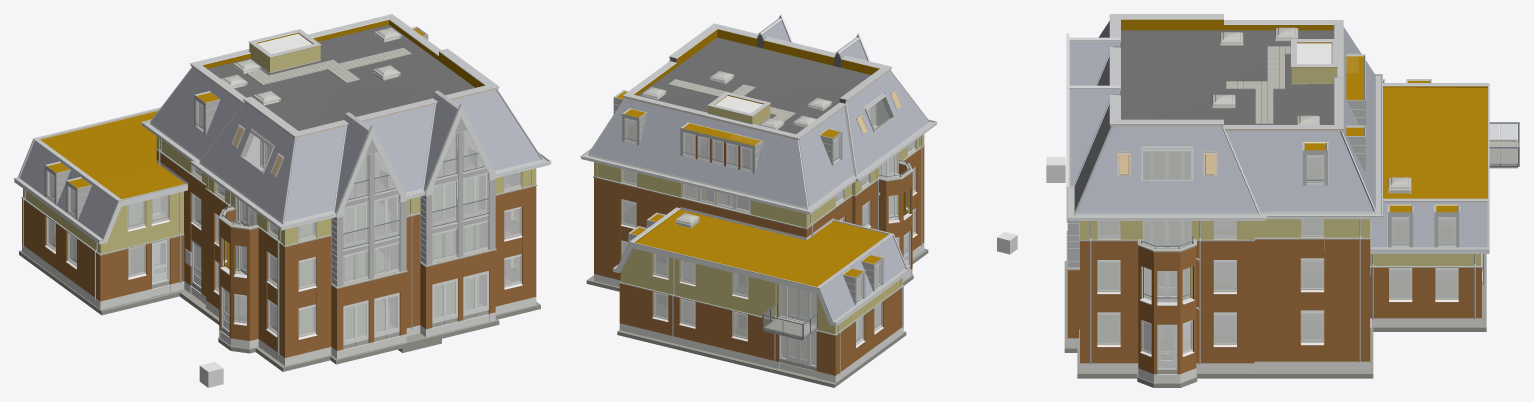
3 views of the same model, side by side, from view 1: azimuth 30°, elevation 25°; view 2: azimuth 150°, elevation 25°; view 3: azimuth 270°, elevation 25° (orthographic). The views are drawn at different scales.
Visible parts, largest first — view 1: 18j3O$xcX2Ih_wQkZiN2od, 0OCXCn3OLEJPn9Ben$c09G, 1YsW3XlsH6jQAy3oVokVoI, 2SZgOSofP2PBFS$KAhUxu3, 073WUmvbzFVP7tMfJQovg6, 22CPiCHcj4Bxue2KiwGzsR, 084MuEGfD4UB54wB7sJMXL, 2raCbTgHb52vuE6qdpZRn2, 3hqyh3fov9vxvrX2KulWNx, 1z36FH34L0DAymH2KSHwC2, 0xYczUi_DC$uHsMfWYC1cm, 1iAvXA9o5BPgAwhGeJ88dm (+68 smaller); view 2: 1Gbp9IjqnCH8qFauUzhZdl, 18j3O$xcX2Ih_wQkZiN2od, 0OCXCn3OLEJPn9Ben$c09G, 1YsW3XlsH6jQAy3oVokVoI, 073WUmvbzFVP7tMfJQovg6, 2raCbTgHb52vuE6qdpZRn2, 00fSj8UXfAn8lUGu3HP6DA, 2DXRwGxjb2hAD7EnaJghPn, 1i40eUabT0jBHvLTD9ciNT, 2qY72vI$D0SenCZx1z6HDK, 1fGrQYIYP4IxWBDX0HVDV6, 2$jpBsfqD9mwGiQ1MIMyCK (+39 smaller); view 3: 18j3O$xcX2Ih_wQkZiN2od, 0OCXCn3OLEJPn9Ben$c09G, 02XXlov8DEKQFyDiiYoPhg, 2N2M5zi3L3ghszlmPoJ3z$, 1ZNir8Ykb5_eoXCXVaPrPD, 2cIQdivwH0euQ3BKDTFgOA, 2WW_2E6Wr1XPPZ0X1qKYGa, 0UxNakFZTANgAC$rAiuj6F, 1Gbp9IjqnCH8qFauUzhZdl, 2Dd7N80nT6xvZLlvwl32zj, 2PNj2dMNT9wOnOYdNWAJQh, 3KZ1A31pLDZgv61Pr5ILuZ (+81 smaller).
Boxes of the visible parts, x1,y1,x2,y2 form: 18j3O$xcX2Ih_wQkZiN2od: [207, 24, 474, 130]; 0OCXCn3OLEJPn9Ben$c09G: [40, 111, 164, 183]; 1YsW3XlsH6jQAy3oVokVoI: [200, 102, 294, 221]; 2SZgOSofP2PBFS$KAhUxu3: [285, 126, 345, 221]; 073WUmvbzFVP7tMfJQovg6: [151, 67, 242, 158]; 22CPiCHcj4Bxue2KiwGzsR: [452, 90, 540, 170]; 084MuEGfD4UB54wB7sJMXL: [363, 105, 434, 192]; 2raCbTgHb52vuE6qdpZRn2: [20, 141, 117, 238]; 3hqyh3fov9vxvrX2KulWNx: [101, 168, 184, 199]; 1z36FH34L0DAymH2KSHwC2: [227, 300, 393, 339]; 0xYczUi_DC$uHsMfWYC1cm: [424, 93, 457, 189]; 1iAvXA9o5BPgAwhGeJ88dm: [335, 115, 368, 211]; 1Gbp9IjqnCH8qFauUzhZdl: [589, 98, 806, 207]; 18j3O$xcX2Ih_wQkZiN2od: [638, 37, 870, 134]; 0OCXCn3OLEJPn9Ben$c09G: [636, 209, 869, 286]; 1YsW3XlsH6jQAy3oVokVoI: [847, 70, 928, 174]; 073WUmvbzFVP7tMfJQovg6: [799, 107, 853, 206]; 2raCbTgHb52vuE6qdpZRn2: [820, 236, 905, 320]; 00fSj8UXfAn8lUGu3HP6DA: [613, 242, 836, 325]; 2DXRwGxjb2hAD7EnaJghPn: [617, 330, 841, 387]; 1i40eUabT0jBHvLTD9ciNT: [695, 264, 732, 305]; 2qY72vI$D0SenCZx1z6HDK: [779, 284, 816, 325]; 1fGrQYIYP4IxWBDX0HVDV6: [619, 323, 779, 368]; 2$jpBsfqD9mwGiQ1MIMyCK: [695, 302, 732, 342]; 18j3O$xcX2Ih_wQkZiN2od: [1120, 30, 1333, 124]; 0OCXCn3OLEJPn9Ben$c09G: [1383, 87, 1487, 198]; 02XXlov8DEKQFyDiiYoPhg: [1077, 126, 1257, 213]; 2N2M5zi3L3ghszlmPoJ3z$: [1226, 131, 1373, 211]; 1ZNir8Ykb5_eoXCXVaPrPD: [1371, 202, 1487, 246]; 2cIQdivwH0euQ3BKDTFgOA: [1324, 252, 1370, 304]; 2WW_2E6Wr1XPPZ0X1qKYGa: [1254, 252, 1300, 304]; 0UxNakFZTANgAC$rAiuj6F: [1070, 89, 1120, 185]; 1Gbp9IjqnCH8qFauUzhZdl: [1342, 28, 1375, 209]; 2Dd7N80nT6xvZLlvwl32zj: [1254, 304, 1300, 350]; 2PNj2dMNT9wOnOYdNWAJQh: [1324, 304, 1370, 350]; 3KZ1A31pLDZgv61Pr5ILuZ: [1077, 362, 1373, 378].
Bounding box in the file's own units: 23.95 × 15.06 × 24.47.
